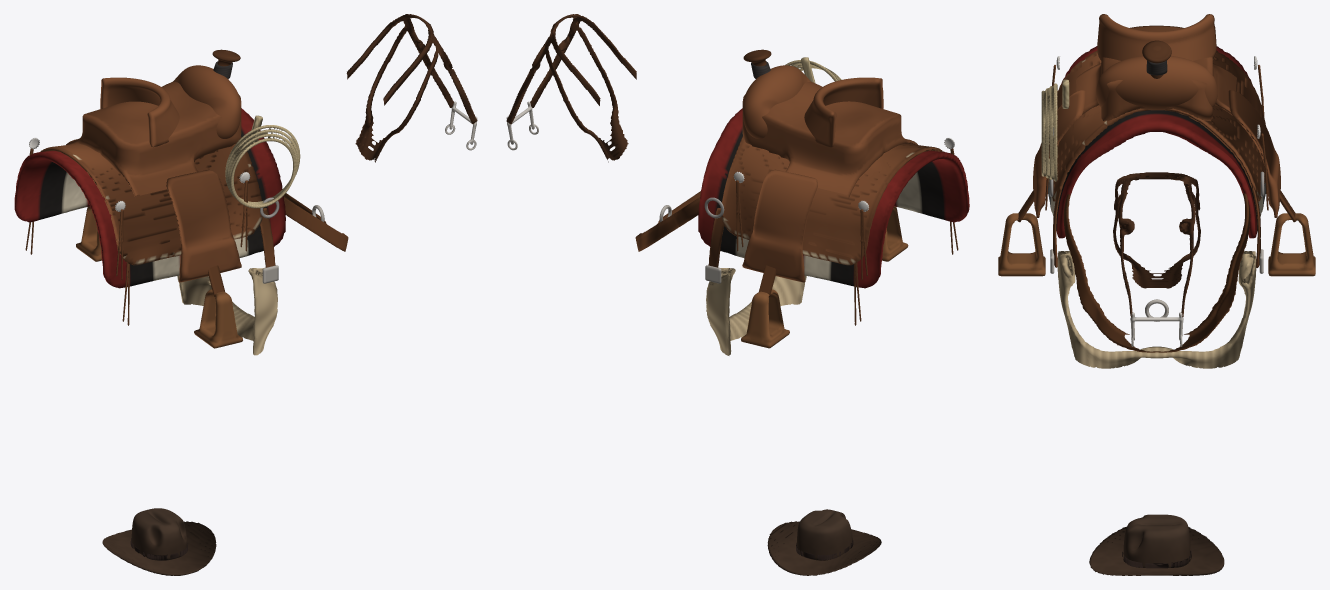
File: western-gear.glb
3 renders of one model, left to right at view 1: azimuth 30°, elevation 25°; view 2: azimuth 150°, elevation 25°; view 3: azimuth 270°, elevation 25°, orthographic. The views are drawn at different scales.
Visible parts, largest first — view 1: saddle-pad, saddle-seat, saddle-skirts, saddle-fenders, saddle-swell-cantle, headstall, cinch, hat-brim, stirrups, hat-crown, lariat, breast-collar (+1 smaller); view 2: saddle-pad, saddle-skirts, saddle-seat, saddle-fenders, saddle-swell-cantle, headstall, cinch, hat-brim, stirrups, hat-crown, breast-collar, saddle-strings; view 3: saddle-swell-cantle, saddle-skirts, saddle-pad, cinch, breast-collar, headstall, saddle-seat, stirrups, saddle-fenders, hat-brim, hat-crown, lariat (+6 smaller).
Boxes of the visible parts, box(x1,y1,x2,y2) form: saddle-pad: box(14, 108, 285, 288); saddle-seat: box(66, 81, 241, 197); saddle-skirts: box(40, 137, 263, 265); saddle-fenders: box(166, 169, 241, 282); saddle-swell-cantle: box(100, 65, 241, 147); headstall: box(346, 14, 477, 162); cinch: box(177, 267, 277, 355); hat-brim: box(102, 521, 216, 575); stirrups: box(76, 206, 242, 348); hat-crown: box(131, 508, 186, 560); lariat: box(225, 115, 300, 208); breast-collar: box(284, 193, 348, 251); saddle-pad: box(698, 108, 969, 288); saddle-skirts: box(720, 136, 944, 265); saddle-seat: box(742, 81, 917, 198); saddle-fenders: box(742, 169, 817, 282); saddle-swell-cantle: box(742, 65, 883, 147); headstall: box(506, 14, 636, 162); cinch: box(706, 267, 806, 355); hat-brim: box(767, 521, 881, 575); stirrups: box(741, 206, 908, 348); hat-crown: box(797, 509, 852, 560); breast-collar: box(635, 191, 700, 251); saddle-strings: box(736, 148, 958, 325); saddle-swell-cantle: box(1096, 14, 1217, 110); saddle-skirts: box(1048, 51, 1265, 201); saddle-pad: box(1048, 46, 1265, 238); cinch: box(1057, 251, 1256, 368); breast-collar: box(1063, 193, 1250, 352); headstall: box(1113, 172, 1200, 317); saddle-seat: box(1076, 25, 1236, 121); stirrups: box(998, 213, 1315, 276); saddle-fenders: box(1033, 90, 1280, 217); hat-brim: box(1089, 526, 1224, 575); hat-crown: box(1123, 514, 1190, 567); lariat: box(1041, 79, 1069, 181).
Bounding box in the file's own units: 1.59 × 1.81 × 0.9402.
